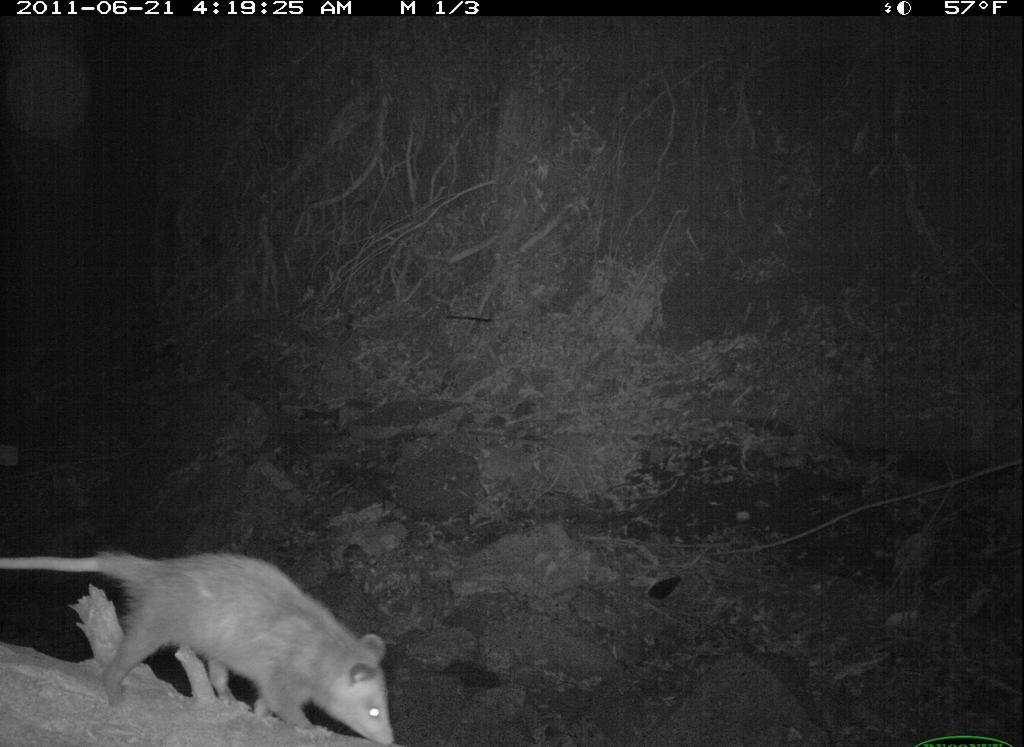opossum: (1, 539, 399, 740)
